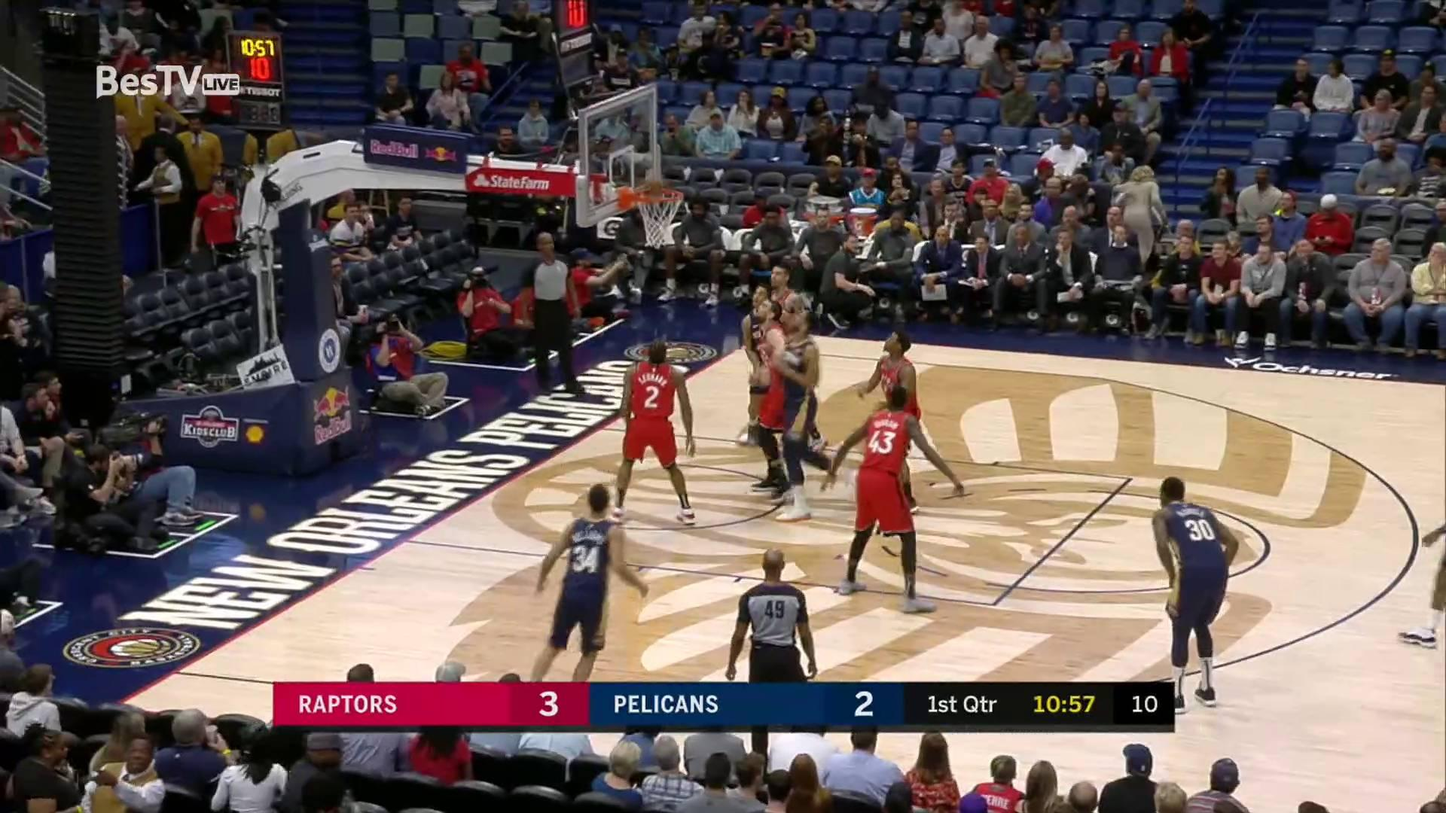basketball: (639, 173, 667, 200)
